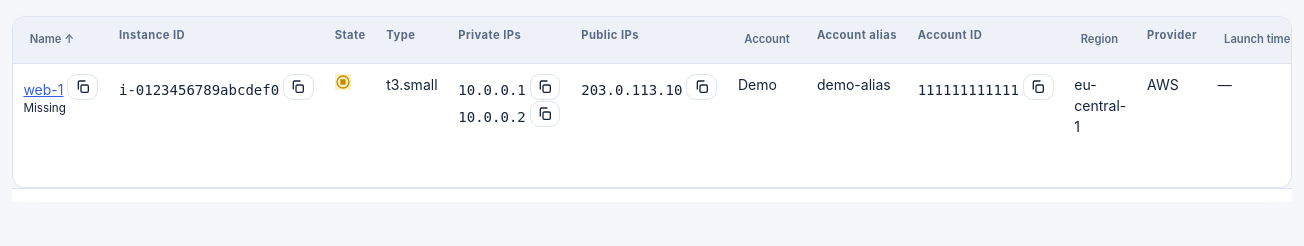
Test: copies the name and each private and public IP
This screenshot has width=1304, height=246.
Click the button named "Copy name web-1".
click(83, 87)  # box [67,74,98,100]
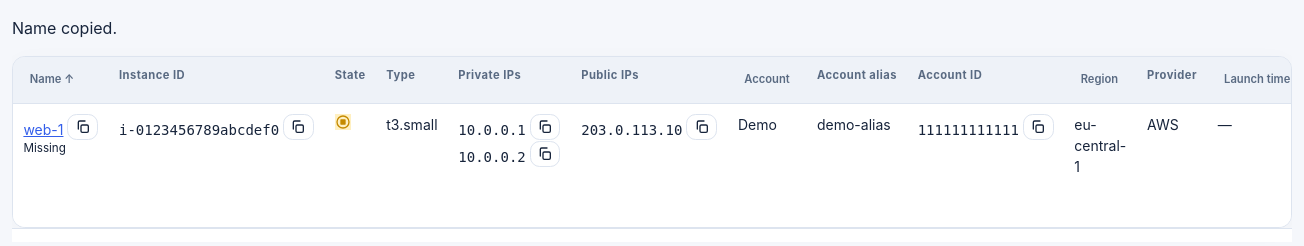
Now the text "Name copied." is shown, box [12,18,117,38]
Click the button named "Copy private IP 10.0.0.2".
click(545, 154)  # box [530,141,560,167]
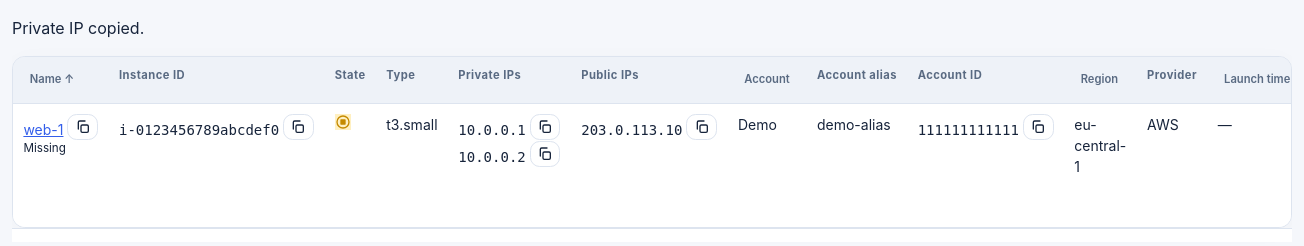
Now the text "Private IP copied." is shown, box [12,18,144,38]
Click the button named "Copy public IP 203.0.113.10".
click(702, 127)  # box [686,114,717,140]
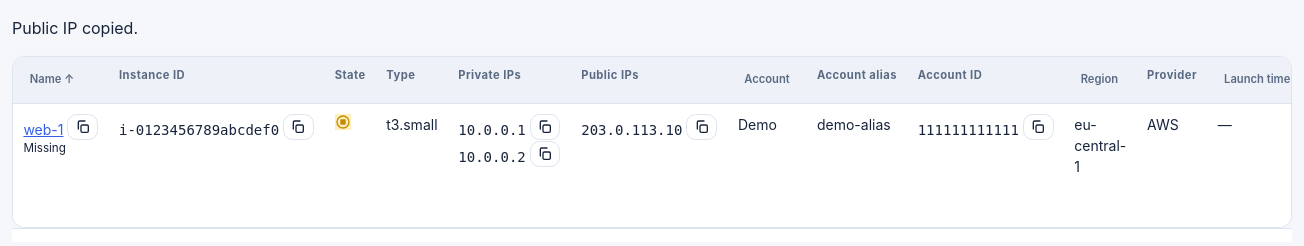
Now the text "Public IP copied." is shown, box [12,18,138,38]
